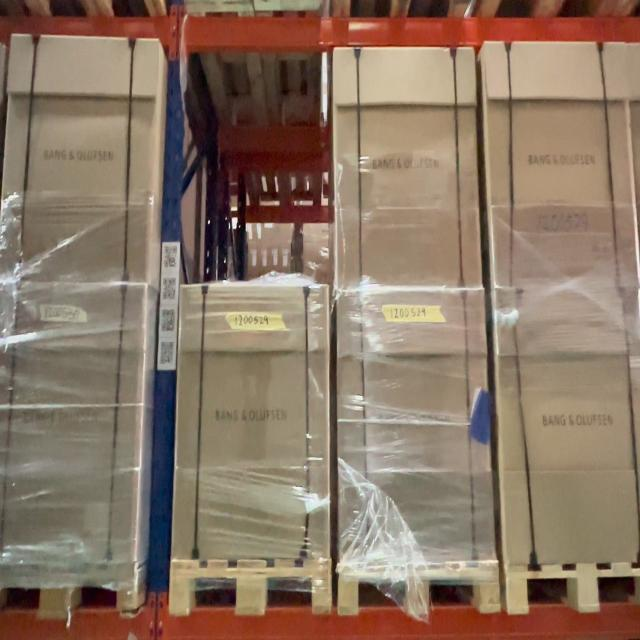box: (336, 288, 491, 552), (181, 287, 330, 558), (0, 286, 139, 572), (334, 50, 486, 295), (9, 25, 150, 283), (496, 306, 636, 562), (486, 41, 598, 297)
